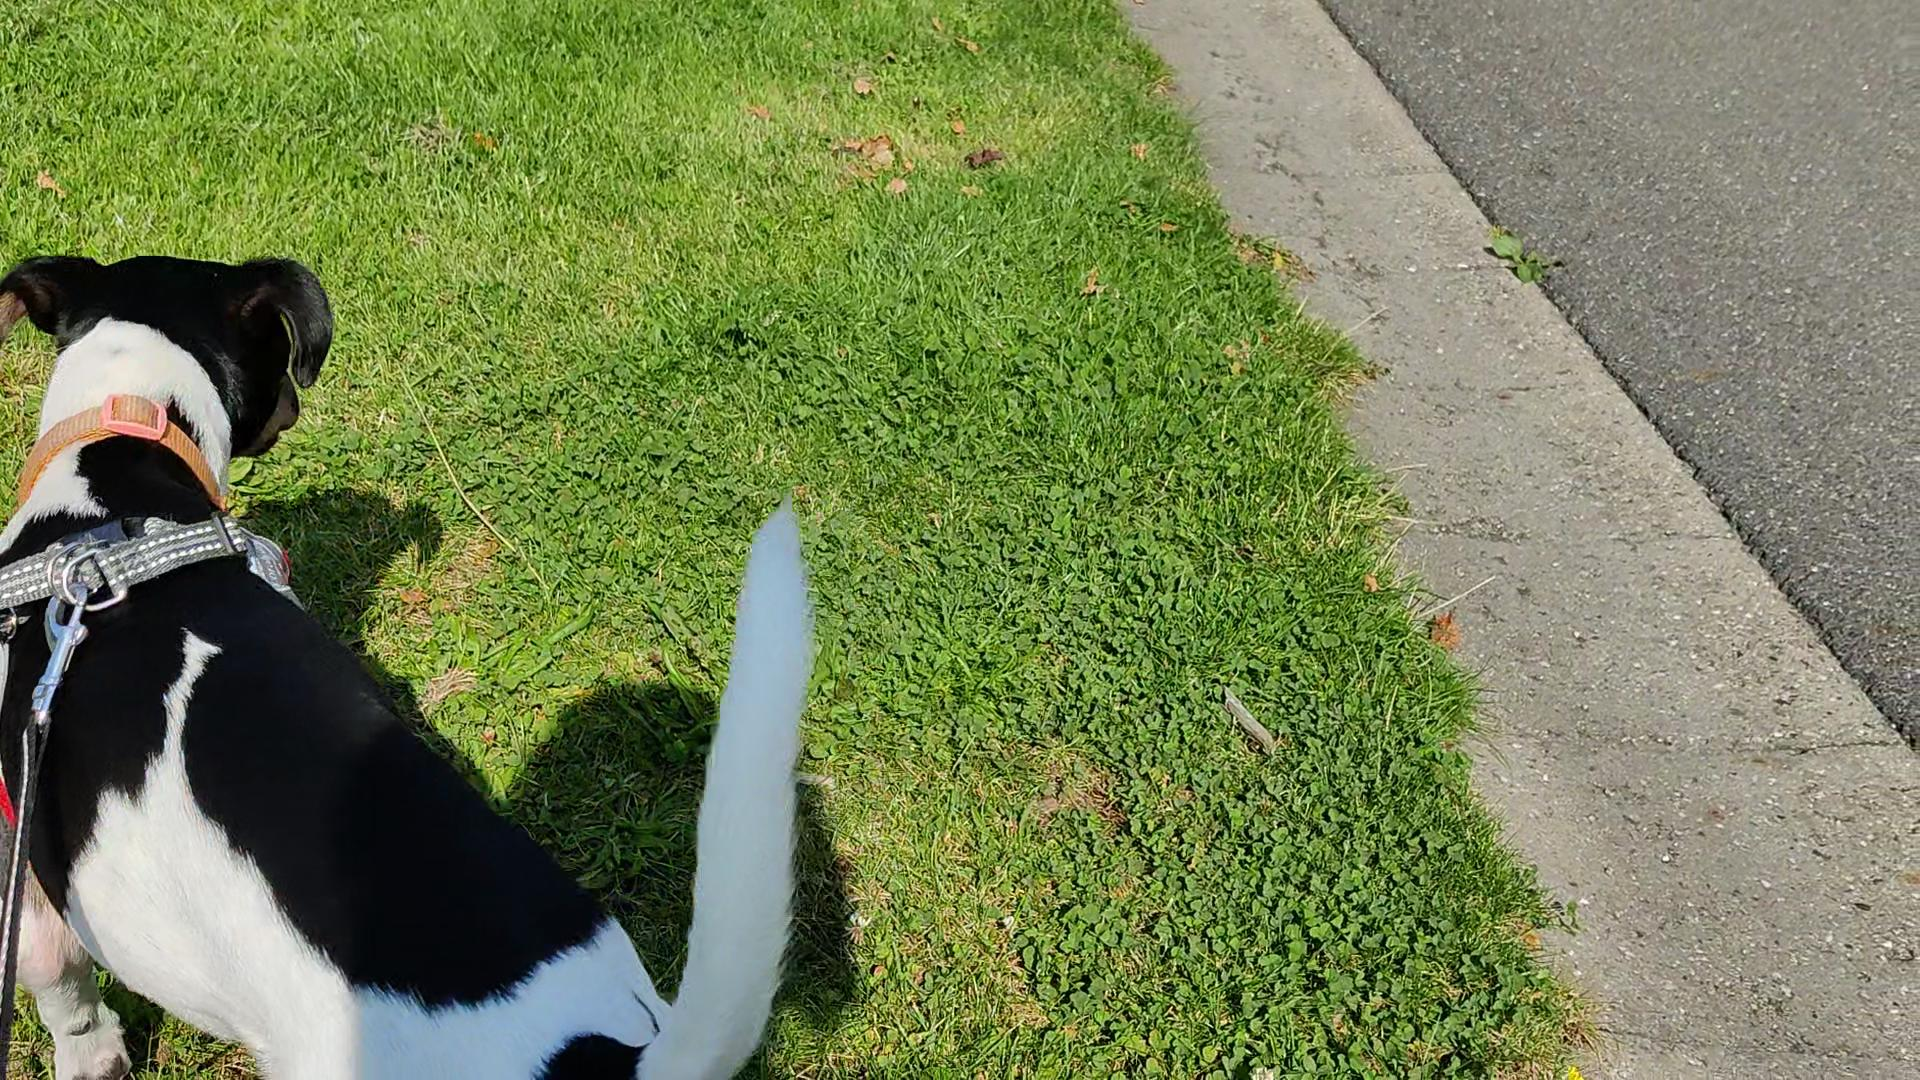Dog: (0, 245, 825, 1079)
